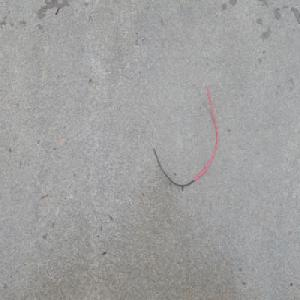Wire: (148, 77, 218, 187)
